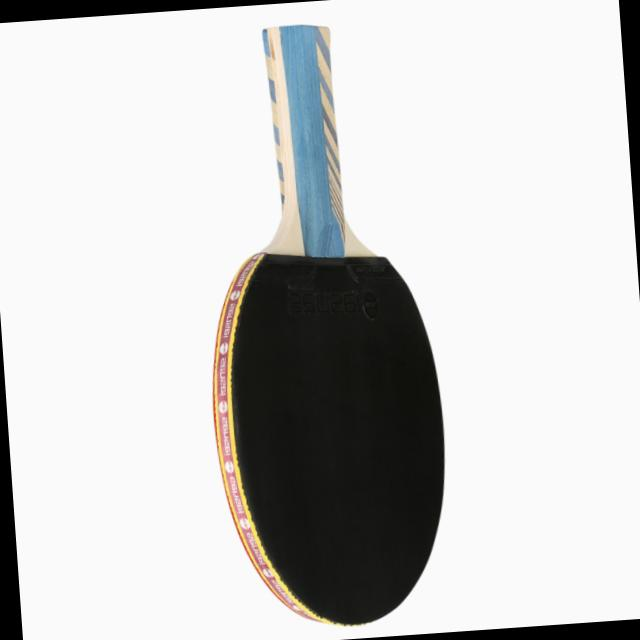TT Racket: (171, 184, 474, 640)
